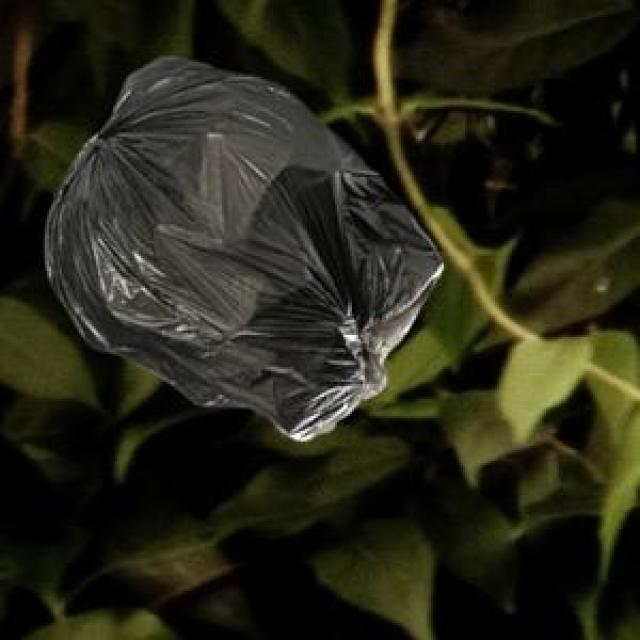miscellaneous trash: (43, 53, 437, 435)
